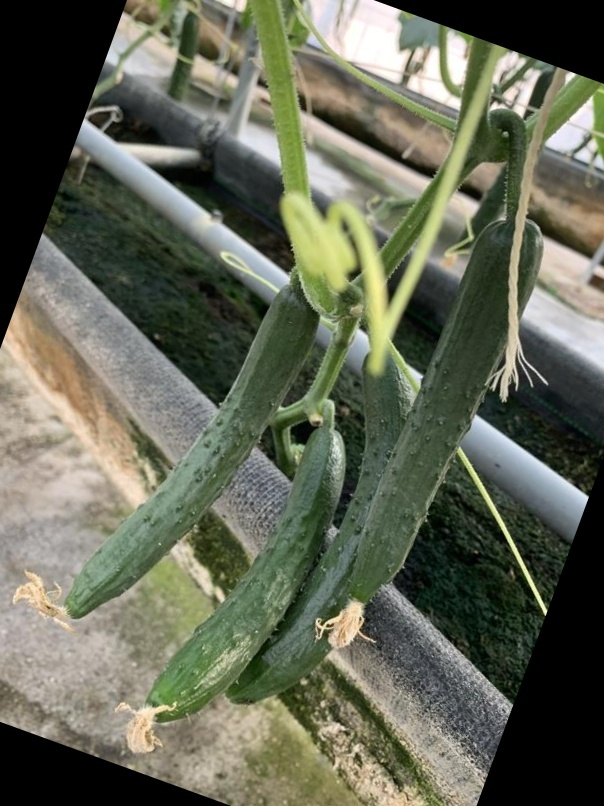mature: (61, 287, 318, 623), (342, 224, 543, 620), (138, 417, 352, 719), (235, 347, 414, 700)
